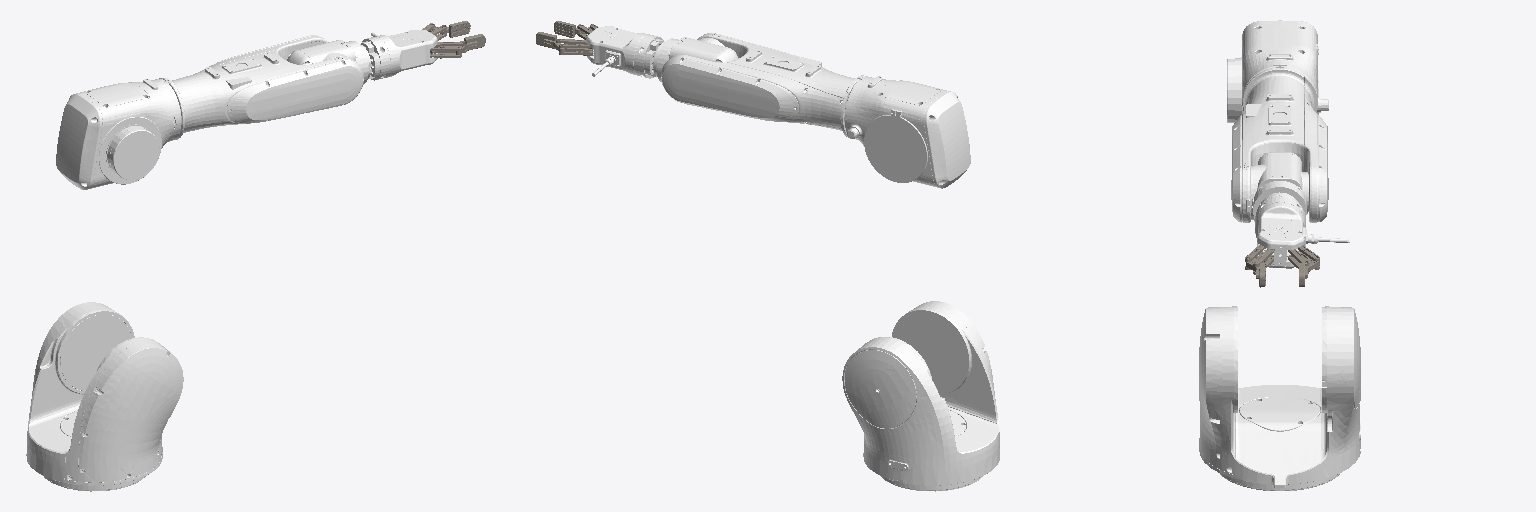
robot.urdf — hk_robot_gripper:
<?xml version="1.0" encoding="utf-8" ?>
<!-- This URDF was automatically created by SolidWorks to URDF Exporter! Originally created by Stephen Brawner (brawner@gmail.com) 
     Commit Version: 1.6.0-4-g7f85cfe  Build Version: 1.6.7995.38578
     For more information, please see http://wiki.ros.org/sw_urdf_exporter -->
<robot name="hk_robot_gripper">
    <link name="base_link">
        <inertial>
            <origin xyz="-0.0240762155097519 -6.07439183346924E-05 0.0926993711568796" rpy="0 0 0" />
            <mass value="9.61931445064129" />
            <inertia ixx="0.0575442909903654" ixy="3.07705125036709E-06" ixz="-0.000101193617172216" iyy="0.0789407999072904" iyz="-1.92904530466979E-05" izz="0.0830867631685588" />
        </inertial>
        <visual>
            <origin xyz="0 0 0" rpy="0 0 0" />
            <geometry>
                <mesh filename="package://hk_robot_gripper/meshes/base_link.STL" />
            </geometry>
            <material name="">
                <color rgba="1 1 1 1" />
            </material>
        </visual>
        <collision>
            <origin xyz="0 0 0" rpy="0 0 0" />
            <geometry>
                <mesh filename="package://hk_robot_gripper/meshes/base_link.STL" />
            </geometry>
        </collision>
    </link>
    <link name="link1">
        <inertial>
            <origin xyz="0.013501278907053 0.0132999344980556 0.0791632960981127" rpy="0 0 0" />
            <mass value="4.16514672017489" />
            <inertia ixx="0.0316621366802409" ixy="-0.00170242215513643" ixz="-0.00404668810684829" iyy="0.0324133353929007" iyz="-0.00843236952332947" izz="0.0213000779832429" />
        </inertial>
        <visual>
            <origin xyz="0 0 0" rpy="0 0 0" />
            <geometry>
                <mesh filename="package://hk_robot_gripper/meshes/link1.STL" />
            </geometry>
            <material name="">
                <color rgba="1 1 1 1" />
            </material>
        </visual>
        <collision>
            <origin xyz="0 0 0" rpy="0 0 0" />
            <geometry>
                <mesh filename="package://hk_robot_gripper/meshes/link1.STL" />
            </geometry>
        </collision>
    </link>
    <joint name="joint1" type="revolute">
        <origin xyz="0 0 0.186" rpy="0 0 0" />
        <parent link="base_link" />
        <child link="link1" />
        <axis xyz="0 0 1" />
        <limit lower="-2.697" upper="2.697" effort="100" velocity="5.759" />
    </joint>
    <link name="link2">
        <inertial>
            <origin xyz="-0.0196256514811221 -0.0626472193501375 0.184888572229802" rpy="0 0 0" />
            <mass value="9.30405617556521" />
            <inertia ixx="0.176518778248241" ixy="0.000549932280639684" ixz="0.00305551623133291" iyy="0.178546386964241" iyz="-0.0217584604397181" izz="0.0289163608612748" />
        </inertial>
        <visual>
            <origin xyz="0 0 0" rpy="0 0 0" />
            <geometry>
                <mesh filename="package://hk_robot_gripper/meshes/link2.STL" />
            </geometry>
            <material name="">
                <color rgba="1 1 1 1" />
            </material>
        </visual>
        <collision>
            <origin xyz="0 0 0" rpy="0 0 0" />
            <geometry>
                <mesh filename="package://hk_robot_gripper/meshes/link2.STL" />
            </geometry>
        </collision>
    </link>
    <joint name="joint2" type="revolute">
        <origin xyz="0.0400008569999744 0.0630000094679999 0.167000171332406" rpy="0 0 0" />
        <parent link="link1" />
        <child link="link2" />
        <axis xyz="0 -1 0" />
        <limit lower="-2.391" upper="1.606" effort="100" velocity="4.625" />
    </joint>
    <link name="link3">
        <inertial>
            <origin xyz="0.00945000510169165 -0.0614675010251967 0.0100942611493721" rpy="0 0 0" />
            <mass value="2.77294977586238" />
            <inertia ixx="0.00769284832770074" ixy="-0.000140289247145591" ixz="-0.00124387155073294" iyy="0.0101513745832295" iyz="-9.57820241038037E-05" izz="0.00915342052753798" />
        </inertial>
        <visual>
            <origin xyz="0 0 0" rpy="0 0 0" />
            <geometry>
                <mesh filename="package://hk_robot_gripper/meshes/link3.STL" />
            </geometry>
            <material name="">
                <color rgba="1 1 1 1" />
            </material>
        </visual>
        <collision>
            <origin xyz="0 0 0" rpy="0 0 0" />
            <geometry>
                <mesh filename="package://hk_robot_gripper/meshes/link3.STL" />
            </geometry>
        </collision>
    </link>
    <joint name="joint3" type="revolute">
        <origin xyz="0 -0.0050000174826863 0.440008774978337" rpy="0 0 0" />
        <parent link="link2" />
        <child link="link3" />
        <axis xyz="0 1 0" />
        <limit lower="-1.309" upper="3.665" effort="100" velocity="6.195" />
    </joint>
    <link name="link4">
        <inertial>
            <origin xyz="0.150826247882765 4.66255425562883E-06 0.000257245955301189" rpy="0 0 0" />
            <mass value="2.62967639973077" />
            <inertia ixx="0.0030689538134985" ixy="0.00102003831047913" ixz="-7.82342017983218E-06" iyy="0.018999112483095" iyz="-1.4701211861209E-06" izz="0.0187976919727519" />
        </inertial>
        <visual>
            <origin xyz="0 0 0" rpy="0 0 0" />
            <geometry>
                <mesh filename="package://hk_robot_gripper/meshes/link4.STL" />
            </geometry>
            <material name="">
                <color rgba="1 1 1 1" />
            </material>
        </visual>
        <collision>
            <origin xyz="0 0 0" rpy="0 0 0" />
            <geometry>
                <mesh filename="package://hk_robot_gripper/meshes/link4.STL" />
            </geometry>
        </collision>
    </link>
    <joint name="joint4" type="revolute">
        <origin xyz="0.105000707675196 -0.0579999980270505 0.0324910836021022" rpy="0 0 0" />
        <parent link="link3" />
        <child link="link4" />
        <axis xyz="1 0 0" />
        <limit lower="-3.491" upper="3.491" effort="100" velocity="7.679" />
    </joint>
    <link name="link5">
        <inertial>
            <origin xyz="0.00574871866681459 0.0380751786036623 -3.4020706964899E-06" rpy="0 0 0" />
            <mass value="0.744627485770696" />
            <inertia ixx="0.000823713208099127" ixy="-5.78938768950311E-06" ixz="7.00197254616588E-09" iyy="0.00100954176379095" iyz="-2.25097009677508E-08" izz="0.00106632133408634" />
        </inertial>
        <visual>
            <origin xyz="0 0 0" rpy="0 0 0" />
            <geometry>
                <mesh filename="package://hk_robot_gripper/meshes/link5.STL" />
            </geometry>
            <material name="">
                <color rgba="1 1 1 1" />
            </material>
        </visual>
        <collision>
            <origin xyz="0 0 0" rpy="0 0 0" />
            <geometry>
                <mesh filename="package://hk_robot_gripper/meshes/link5.STL" />
            </geometry>
        </collision>
    </link>
    <joint name="joint5" type="revolute">
        <origin xyz="0.32399990421585 -0.0389999939121068 0" rpy="0 0 0" />
        <parent link="link4" />
        <child link="link5" />
        <axis xyz="0 1 0" />
        <limit lower="-2.269" upper="2.269" effort="100" velocity="7.854" />
    </joint>
    <link name="hkrobot">
        <inertial>
            <origin xyz="0.00809711108733446 0.0001646684376791 -2.59085690346161E-05" rpy="0 0 0" />
            <mass value="0.0250254344998689" />
            <inertia ixx="1.31737532314685E-05" ixy="-2.10738247724408E-09" ixz="2.95165208947997E-09" iyy="6.93799359626868E-06" iyz="-1.06818244498264E-10" izz="6.82453394313688E-06" />
        </inertial>
        <visual>
            <origin xyz="0 0 0" rpy="0 0 0" />
            <geometry>
                <mesh filename="package://hk_robot_gripper/meshes/hkrobot.STL" />
            </geometry>
            <material name="">
                <color rgba="1 1 1 1" />
            </material>
        </visual>
        <collision>
            <origin xyz="0 0 0" rpy="0 0 0" />
            <geometry>
                <mesh filename="package://hk_robot_gripper/meshes/hkrobot.STL" />
            </geometry>
        </collision>
    </link>
    <joint name="j_hkrobot" type="revolute">
        <origin xyz="0.064 0.039 0" rpy="0 0 0" />
        <parent link="link5" />
        <child link="hkrobot" />
        <axis xyz="-1 0 0" />
        <limit lower="-6.28" upper="6.28" effort="100" velocity="12.217" />
    </joint>
    <link name="left1">
        <inertial>
            <origin xyz="-0.64524259532042 -0.0383471590972383 -0.409696941227353" rpy="0 0 0" />
            <mass value="29.3496579490047" />
            <inertia ixx="2.58315175853579" ixy="0.000974365436235862" ixz="-0.63100263241913" iyy="2.98278800394886" iyz="0.00682924233693356" izz="0.577700676115089" />
        </inertial>
        <visual>
            <origin xyz="0 0 0" rpy="0 0 0" />
            <geometry>
                <mesh filename="package://hk_robot_gripper/meshes/left1.STL" />
            </geometry>
            <material name="">
                <color rgba="0.647058823529412 0.619607843137255 0.588235294117647 1" />
            </material>
        </visual>
        <collision>
            <origin xyz="0 0 0" rpy="0 0 0" />
            <geometry>
                <mesh filename="package://hk_robot_gripper/meshes/left1.STL" />
            </geometry>
        </collision>
    </link>
    <joint name="joint11" type="revolute">
        <origin xyz="0.15745 0.039894 -0.0038693" rpy="0 0 0" />
        <parent link="hkrobot" />
        <child link="left1" />
        <axis xyz="0 0.026502 -0.99965" />
        <limit lower="0" upper="1" effort="0" velocity="10" />
    </joint>
    <link name="left3">
        <inertial>
            <origin xyz="-0.690224527081833 -0.0409632140203349 -0.417769107510507" rpy="0 0 0" />
            <mass value="29.3496579490047" />
            <inertia ixx="2.58315175853579" ixy="0.000974365436235861" ixz="-0.63100263241913" iyy="2.98278800394886" iyz="0.00682924233693358" izz="0.577700676115089" />
        </inertial>
        <visual>
            <origin xyz="0 0 0" rpy="0 0 0" />
            <geometry>
                <mesh filename="package://hk_robot_gripper/meshes/left3.STL" />
            </geometry>
            <material name="">
                <color rgba="0.647058823529412 0.619607843137255 0.588235294117647 1" />
            </material>
        </visual>
        <collision>
            <origin xyz="0 0 0" rpy="0 0 0" />
            <geometry>
                <mesh filename="package://hk_robot_gripper/meshes/left3.STL" />
            </geometry>
        </collision>
    </link>
    <joint name="joint13" type="revolute">
        <origin xyz="0.044982 0.0026161 0.0080722" rpy="0 0 0" />
        <parent link="left1" />
        <child link="left3" />
        <axis xyz="0 -0.026502 0.99965" />
        <limit lower="-2" upper="2" effort="0" velocity="0" />
    </joint>
    <link name="left2">
        <inertial>
            <origin xyz="-0.66234750333634 -0.026647638457418 -0.409386775736074" rpy="0 0 0" />
            <mass value="29.3496579490047" />
            <inertia ixx="2.58315175853579" ixy="0.000974365436235864" ixz="-0.63100263241913" iyy="2.98278800394886" iyz="0.0068292423369336" izz="0.577700676115089" />
        </inertial>
        <visual>
            <origin xyz="0 0 0" rpy="0 0 0" />
            <geometry>
                <mesh filename="package://hk_robot_gripper/meshes/left2.STL" />
            </geometry>
            <material name="">
                <color rgba="0.647058823529412 0.619607843137255 0.588235294117647 1" />
            </material>
        </visual>
        <collision>
            <origin xyz="0 0 0" rpy="0 0 0" />
            <geometry>
                <mesh filename="package://hk_robot_gripper/meshes/left2.STL" />
            </geometry>
        </collision>
    </link>
    <joint name="joint12" type="revolute">
        <origin xyz="0.17456 0.028194 -0.0041795" rpy="0 0 0" />
        <parent link="hkrobot" />
        <child link="left2" />
        <axis xyz="0 -0.026502 0.99965" />
        <limit lower="-2" upper="1" effort="0" velocity="10" />
    </joint>
    <link name="right1">
        <inertial>
            <origin xyz="-0.640595016600155 0.0355052861104522 -0.407739039153896" rpy="0 0 0" />
            <mass value="29.3496579490047" />
            <inertia ixx="2.58315175853579" ixy="0.000974365436235864" ixz="-0.63100263241913" iyy="2.98278800394886" iyz="0.00682924233693357" izz="0.577700676115089" />
        </inertial>
        <visual>
            <origin xyz="0 0 0" rpy="0 0 0" />
            <geometry>
                <mesh filename="package://hk_robot_gripper/meshes/right1.STL" />
            </geometry>
            <material name="">
                <color rgba="0.647058823529412 0.619607843137255 0.588235294117647 1" />
            </material>
        </visual>
        <collision>
            <origin xyz="0 0 0" rpy="0 0 0" />
            <geometry>
                <mesh filename="package://hk_robot_gripper/meshes/right1.STL" />
            </geometry>
        </collision>
    </link>
    <joint name="joint21" type="revolute">
        <origin xyz="0.1528 -0.033959 -0.0058272" rpy="0 0 0" />
        <parent link="hkrobot" />
        <child link="right1" />
        <axis xyz="0 0.026502 -0.99965" />
        <limit lower="-2" upper="1" effort="0" velocity="1" />
    </joint>
    <link name="right3">
        <inertial>
            <origin xyz="-0.675323419199415 0.0407400486533196 -0.414902826212727" rpy="0 0 0" />
            <mass value="29.3496579490047" />
            <inertia ixx="2.58315175853579" ixy="0.000974365436235861" ixz="-0.63100263241913" iyy="2.98278800394886" iyz="0.00682924233693355" izz="0.577700676115089" />
        </inertial>
        <visual>
            <origin xyz="0 0 0" rpy="0 0 0" />
            <geometry>
                <mesh filename="package://hk_robot_gripper/meshes/right3.STL" />
            </geometry>
            <material name="">
                <color rgba="0.647058823529412 0.619607843137255 0.588235294117647 1" />
            </material>
        </visual>
        <collision>
            <origin xyz="0 0 0" rpy="0 0 0" />
            <geometry>
                <mesh filename="package://hk_robot_gripper/meshes/right3.STL" />
            </geometry>
        </collision>
    </link>
    <joint name="joint23" type="revolute">
        <origin xyz="0.034728 -0.0052348 0.0071638" rpy="0 0 0" />
        <parent link="right1" />
        <child link="right3" />
        <axis xyz="0 0.026502 -0.99965" />
        <limit lower="-2" upper="1" effort="0" velocity="10" />
    </joint>
    <link name="right2">
        <inertial>
            <origin xyz="-0.659874209681463 0.0244211542666706 -0.407332645114089" rpy="0 0 0" />
            <mass value="29.3496579490047" />
            <inertia ixx="2.58315175853579" ixy="0.000974365436235855" ixz="-0.63100263241913" iyy="2.98278800394886" iyz="0.00682924233693357" izz="0.577700676115089" />
        </inertial>
        <visual>
            <origin xyz="0 0 0" rpy="0 0 0" />
            <geometry>
                <mesh filename="package://hk_robot_gripper/meshes/right2.STL" />
            </geometry>
            <material name="">
                <color rgba="0.647058823529412 0.619607843137255 0.588235294117647 1" />
            </material>
        </visual>
        <collision>
            <origin xyz="0 0 0" rpy="0 0 0" />
            <geometry>
                <mesh filename="package://hk_robot_gripper/meshes/right2.STL" />
            </geometry>
        </collision>
    </link>
    <joint name="joint22" type="revolute">
        <origin xyz="0.17208 -0.022875 -0.0062336" rpy="0 0 0" />
        <parent link="hkrobot" />
        <child link="right2" />
        <axis xyz="0 -0.026502 0.99965" />
        <limit lower="-2" upper="1" effort="0" velocity="10" />
    </joint>
    <transmission name="trans_joint1">
        <type>transmission_interface/SimpleTransmission</type>
        <joint name="joint1">
            <hardwareInterface>hardware_interface/EffortJointInterface</hardwareInterface>
        </joint>
        <actuator name="joint1_motor">
            <hardwareInterface>hardware_interface/EffortJointInterface</hardwareInterface>
            <mechanicalReduction>1</mechanicalReduction>
        </actuator>
    </transmission>
    <transmission name="trans_joint2">
        <type>transmission_interface/SimpleTransmission</type>
        <joint name="joint2">
            <hardwareInterface>hardware_interface/EffortJointInterface</hardwareInterface>
        </joint>
        <actuator name="joint2_motor">
            <hardwareInterface>hardware_interface/EffortJointInterface</hardwareInterface>
            <mechanicalReduction>1</mechanicalReduction>
        </actuator>
    </transmission>
    <transmission name="trans_joint3">
        <type>transmission_interface/SimpleTransmission</type>
        <joint name="joint3">
            <hardwareInterface>hardware_interface/EffortJointInterface</hardwareInterface>
        </joint>
        <actuator name="joint3_motor">
            <hardwareInterface>hardware_interface/EffortJointInterface</hardwareInterface>
            <mechanicalReduction>1</mechanicalReduction>
        </actuator>
    </transmission>
    <transmission name="trans_joint4">
        <type>transmission_interface/SimpleTransmission</type>
        <joint name="joint4">
            <hardwareInterface>hardware_interface/EffortJointInterface</hardwareInterface>
        </joint>
        <actuator name="joint4_motor">
            <hardwareInterface>hardware_interface/EffortJointInterface</hardwareInterface>
            <mechanicalReduction>1</mechanicalReduction>
        </actuator>
    </transmission>
    <transmission name="trans_joint5">
        <type>transmission_interface/SimpleTransmission</type>
        <joint name="joint5">
            <hardwareInterface>hardware_interface/EffortJointInterface</hardwareInterface>
        </joint>
        <actuator name="joint5_motor">
            <hardwareInterface>hardware_interface/EffortJointInterface</hardwareInterface>
            <mechanicalReduction>1</mechanicalReduction>
        </actuator>
    </transmission>
    <transmission name="trans_j_hkrobot">
        <type>transmission_interface/SimpleTransmission</type>
        <joint name="j_hkrobot">
            <hardwareInterface>hardware_interface/EffortJointInterface</hardwareInterface>
        </joint>
        <actuator name="j_hkrobot_motor">
            <hardwareInterface>hardware_interface/EffortJointInterface</hardwareInterface>
            <mechanicalReduction>1</mechanicalReduction>
        </actuator>
    </transmission>
    <transmission name="trans_joint11">
        <type>transmission_interface/SimpleTransmission</type>
        <joint name="joint11">
            <hardwareInterface>hardware_interface/EffortJointInterface</hardwareInterface>
        </joint>
        <actuator name="joint11_motor">
            <hardwareInterface>hardware_interface/EffortJointInterface</hardwareInterface>
            <mechanicalReduction>1</mechanicalReduction>
        </actuator>
    </transmission>
    <transmission name="trans_joint13">
        <type>transmission_interface/SimpleTransmission</type>
        <joint name="joint13">
            <hardwareInterface>hardware_interface/EffortJointInterface</hardwareInterface>
        </joint>
        <actuator name="joint13_motor">
            <hardwareInterface>hardware_interface/EffortJointInterface</hardwareInterface>
            <mechanicalReduction>1</mechanicalReduction>
        </actuator>
    </transmission>
    <transmission name="trans_joint12">
        <type>transmission_interface/SimpleTransmission</type>
        <joint name="joint12">
            <hardwareInterface>hardware_interface/EffortJointInterface</hardwareInterface>
        </joint>
        <actuator name="joint12_motor">
            <hardwareInterface>hardware_interface/EffortJointInterface</hardwareInterface>
            <mechanicalReduction>1</mechanicalReduction>
        </actuator>
    </transmission>
    <transmission name="trans_joint21">
        <type>transmission_interface/SimpleTransmission</type>
        <joint name="joint21">
            <hardwareInterface>hardware_interface/EffortJointInterface</hardwareInterface>
        </joint>
        <actuator name="joint21_motor">
            <hardwareInterface>hardware_interface/EffortJointInterface</hardwareInterface>
            <mechanicalReduction>1</mechanicalReduction>
        </actuator>
    </transmission>
    <transmission name="trans_joint23">
        <type>transmission_interface/SimpleTransmission</type>
        <joint name="joint23">
            <hardwareInterface>hardware_interface/EffortJointInterface</hardwareInterface>
        </joint>
        <actuator name="joint23_motor">
            <hardwareInterface>hardware_interface/EffortJointInterface</hardwareInterface>
            <mechanicalReduction>1</mechanicalReduction>
        </actuator>
    </transmission>
    <transmission name="trans_joint22">
        <type>transmission_interface/SimpleTransmission</type>
        <joint name="joint22">
            <hardwareInterface>hardware_interface/EffortJointInterface</hardwareInterface>
        </joint>
        <actuator name="joint22_motor">
            <hardwareInterface>hardware_interface/EffortJointInterface</hardwareInterface>
            <mechanicalReduction>1</mechanicalReduction>
        </actuator>
    </transmission>
    <gazebo>
        <plugin name="gazebo_ros_control" filename="libgazebo_ros_control.so">
            <robotNamespace>/</robotNamespace>
        </plugin>
    </gazebo>
</robot>

--- Facts derived from the render (not from the file) ---
3 views of the same robot in one strip: view 1: azimuth 30°, elevation 25°; view 2: azimuth 150°, elevation 25°; view 3: azimuth 270°, elevation 25° (orthographic).
Model hk_robot_gripper with 13 links and 12 joints (12 revolute), rooted at base_link, posed every joint at zero.
Links seen in each view (by area): view 1: link1, link4, link3, hkrobot, link5; view 2: link1, link4, link3, hkrobot, link5; view 3: link1, link4, link3, hkrobot, link5.
Boxes of the visible links, box(x1,y1,x2,y2) form: link1: box(26, 302, 183, 491); link4: box(159, 35, 363, 139); link3: box(56, 79, 181, 189); hkrobot: box(360, 30, 437, 80); link5: box(287, 40, 368, 84); link1: box(842, 301, 999, 491); link4: box(661, 33, 864, 136); link3: box(844, 76, 970, 188); hkrobot: box(586, 26, 664, 78); link5: box(656, 37, 738, 81); link1: box(1199, 306, 1360, 490); link4: box(1231, 68, 1328, 222); link3: box(1227, 20, 1328, 122); hkrobot: box(1255, 192, 1349, 268); link5: box(1251, 152, 1308, 221).
Size in the robot's own frame: 0.899 by 0.2411 by 0.721 metres.
11 mesh visuals loaded from 13 distinct referenced files (11 binary STL); not drawn: 2 (reference not matched to a file when rendering).
